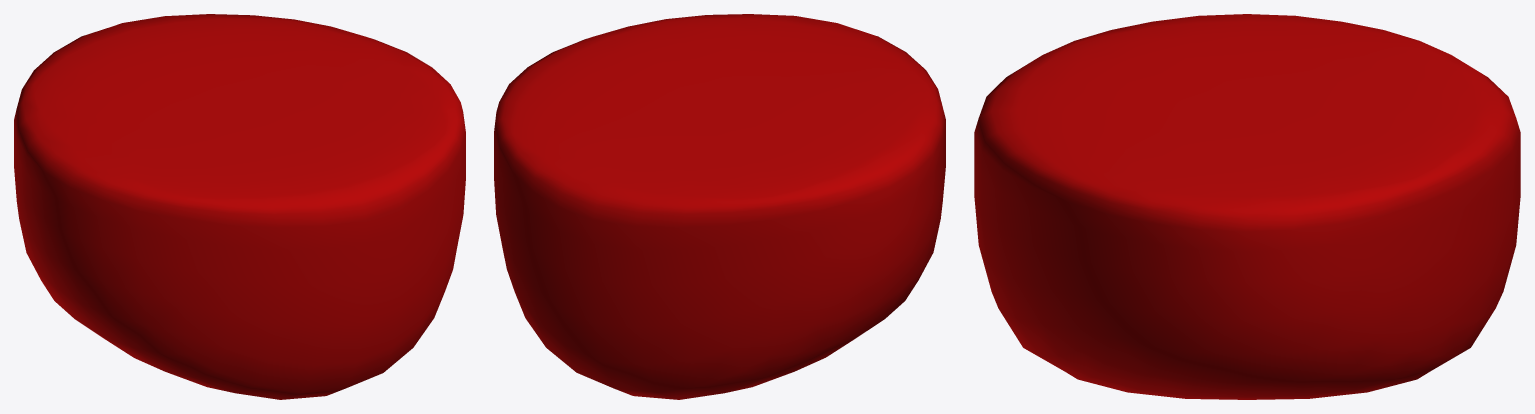
3 views of the same model, side by side, from view 1: azimuth 30°, elevation 25°; view 2: azimuth 150°, elevation 25°; view 3: azimuth 270°, elevation 25° (orthographic). The views are drawn at different scales.
Bounding box in the file's own units: 0.0574 × 0.0338 × 0.0639.
